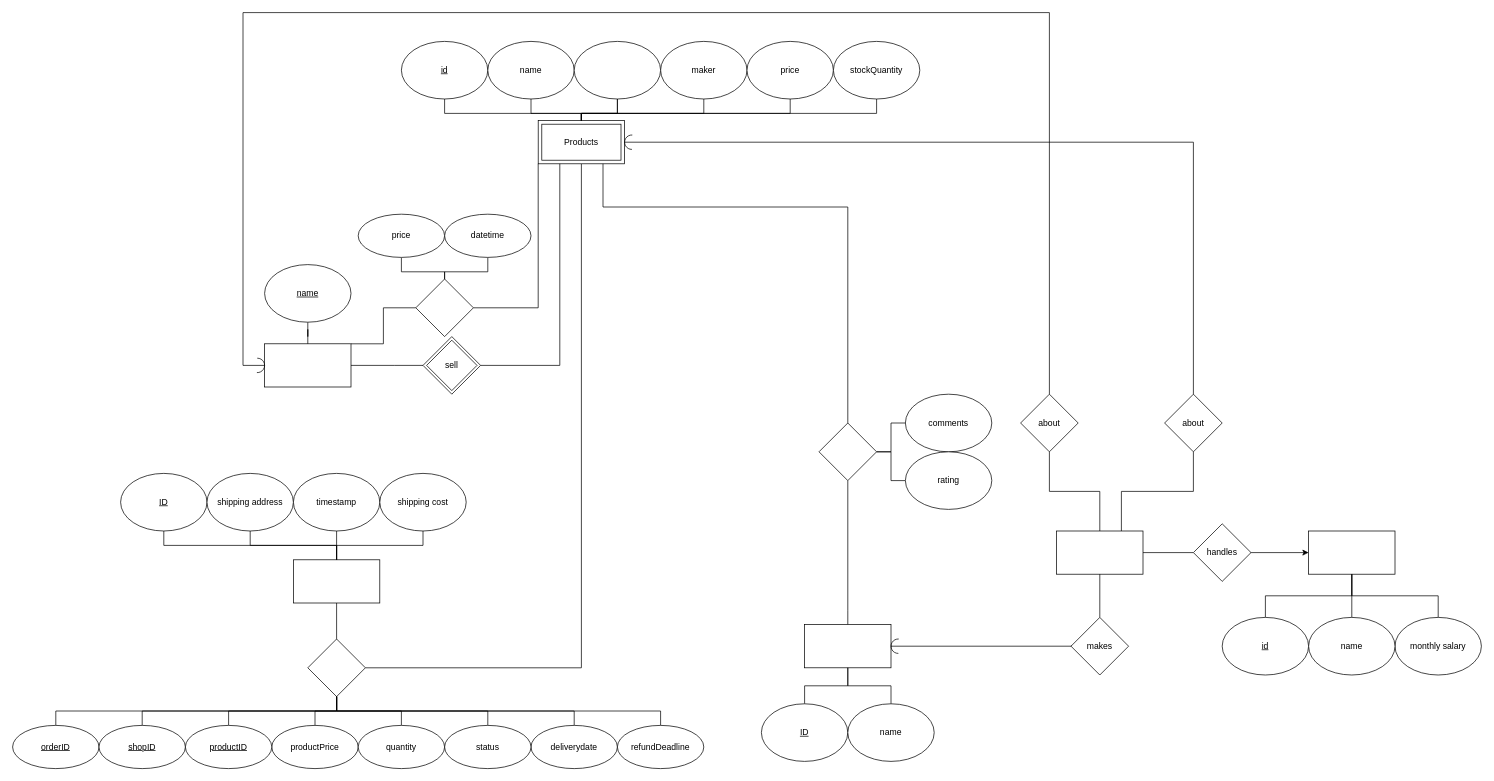
Image size: 1494x781. Some labels were removed from this diagram. Each missing label, with the centre of its shape:
category: (x=617, y=70)
Complaint: (x=1099, y=552)
contains: (x=336, y=667)
Employees: (x=1351, y=552)
history: (x=444, y=307)
Orders: (x=336, y=581)
RATE: (x=847, y=451)
Shops: (x=307, y=365)
Users: (x=847, y=646)
